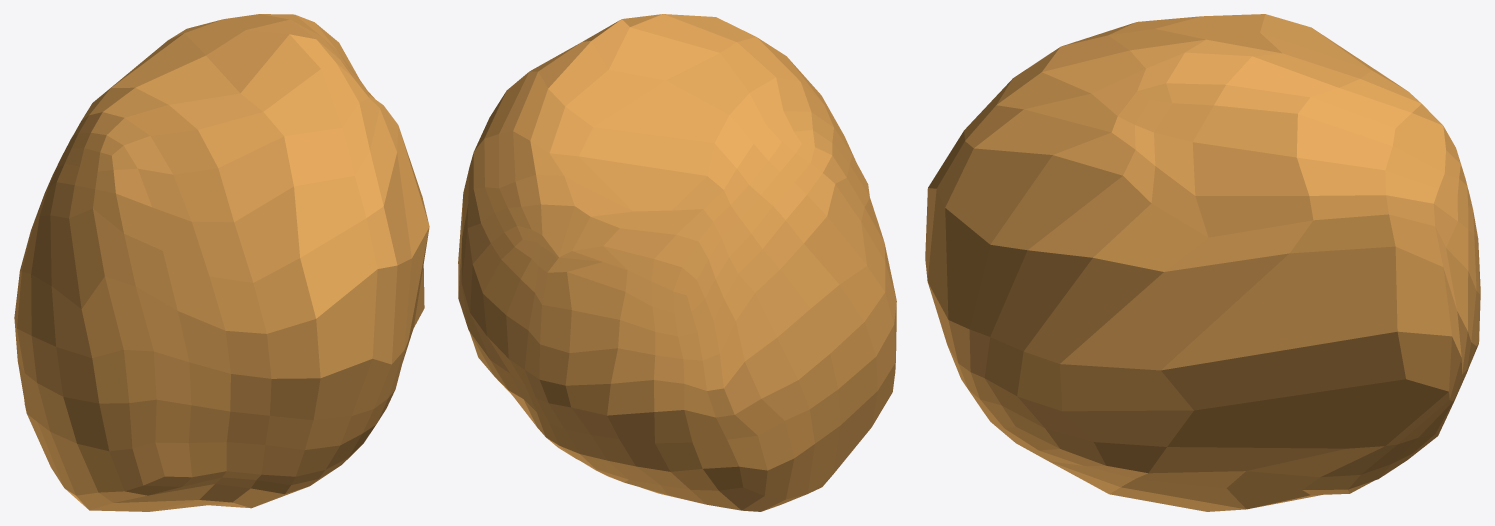
Rendered from meatball.fbx.
3 views of the same model, side by side, from view 1: azimuth 30°, elevation 25°; view 2: azimuth 150°, elevation 25°; view 3: azimuth 270°, elevation 25° (orthographic). The views are drawn at different scales.
Parts seen in each view (by area): view 1: Cube.012; view 2: Cube.012; view 3: Cube.012.
Part boxes in pixels (x1,y1,x2,y2): Cube.012: (14, 14, 429, 511); Cube.012: (458, 14, 896, 511); Cube.012: (925, 14, 1480, 511).
Bounding box in the file's own units: 330 × 404 × 394.
